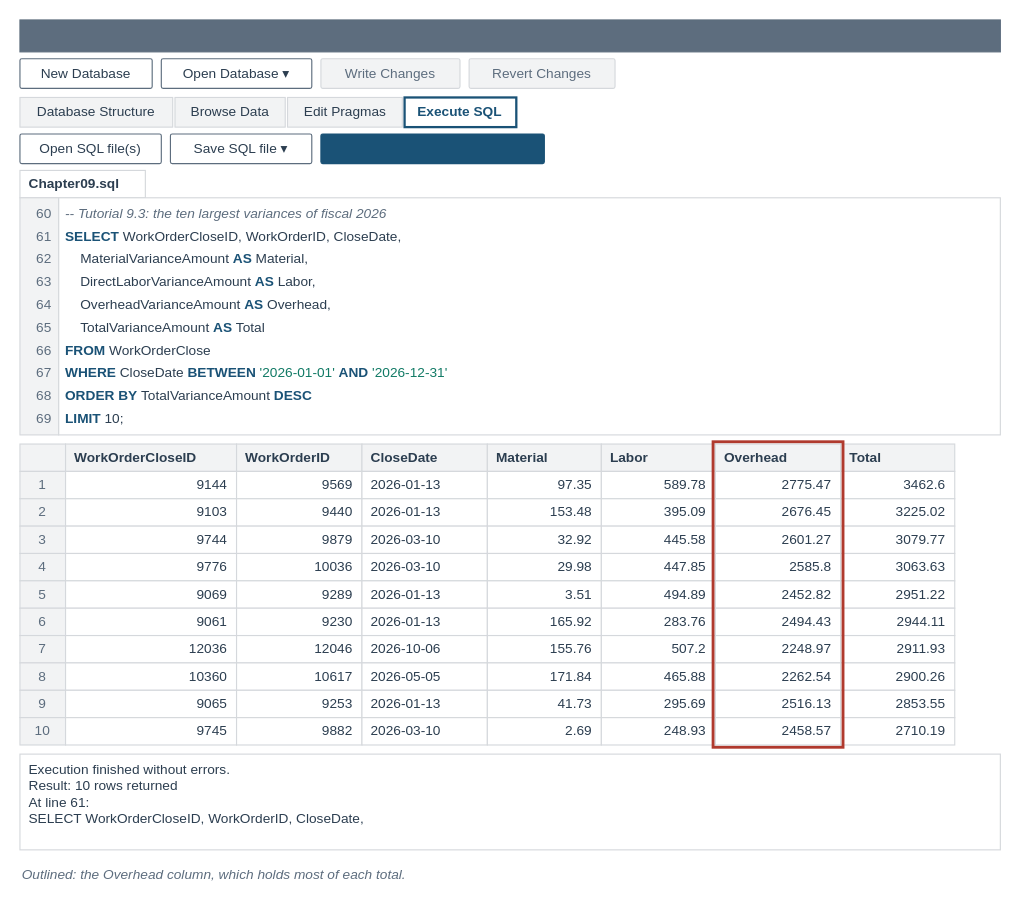
Some shapes in this 1020 by 906 pixel diagram are drawn without their labels. The shapes that lost their labels are listed below. From the top down, each one's centre as x and y in pixels, then its label:
At pixel 509 35: "DB Browser for SQLite - C:\Users\you\Documents\CharlesRiver_Work.sqlite".
At pixel 432 148: "▶ Execute all/selected SQL".
